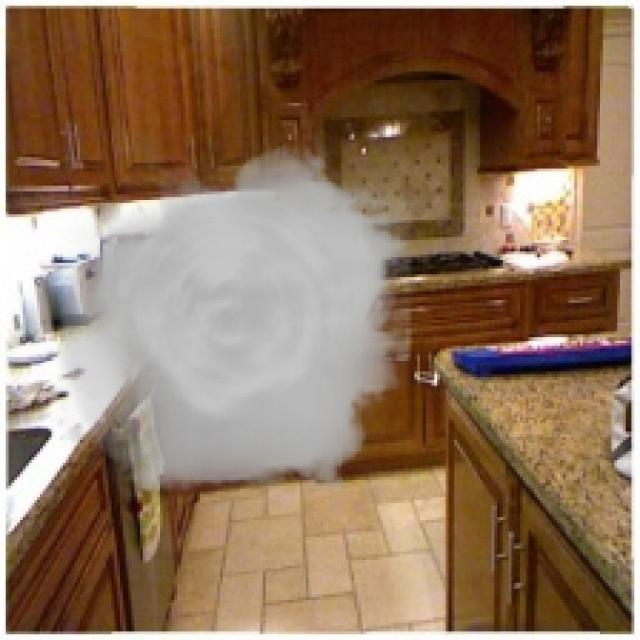smoke: (57, 134, 412, 512)
